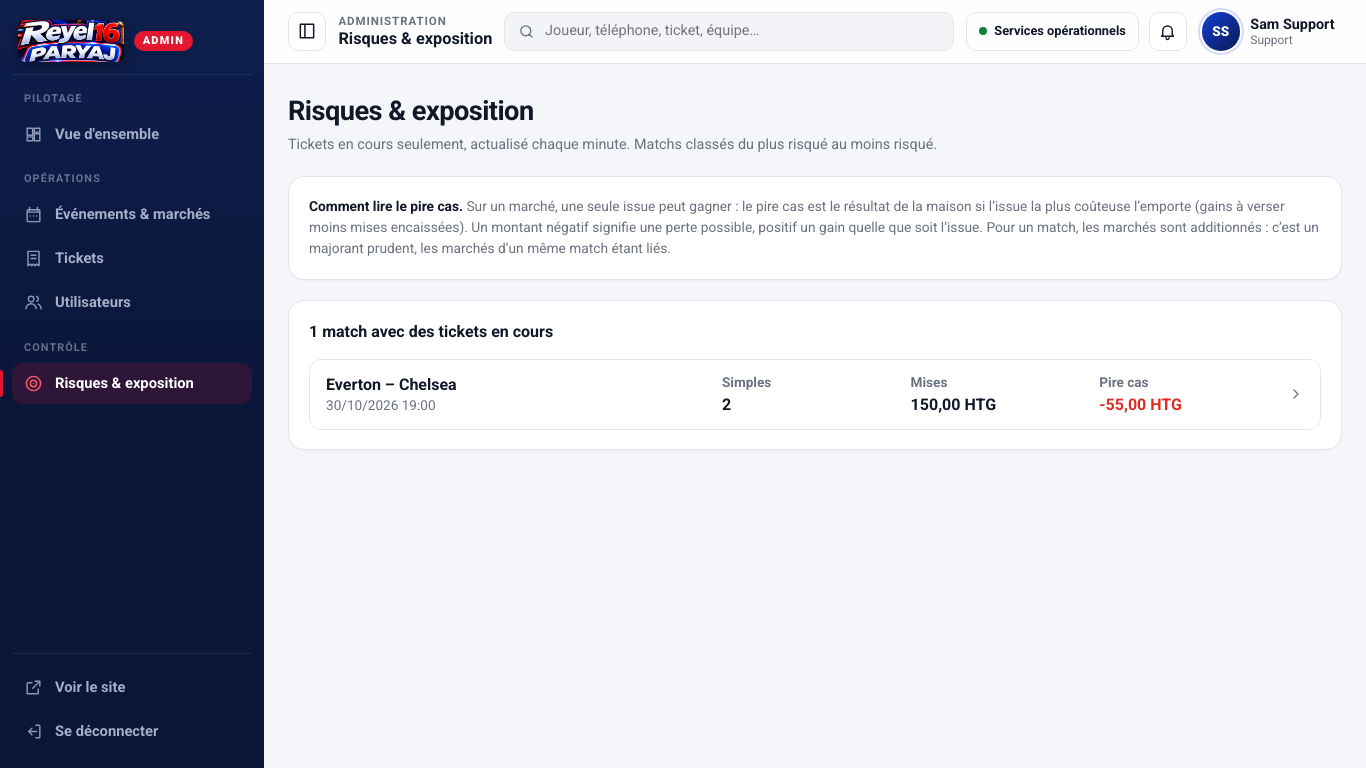
supervision et risques › montre le pire cas d'un match et le détail par issue
Expected: the text "Pire cas -55,00 HTG" is shown, [1099,374,1182,414]
Click the button "Everton – Chelsea" at (391, 385), box [310,360,1320,429]
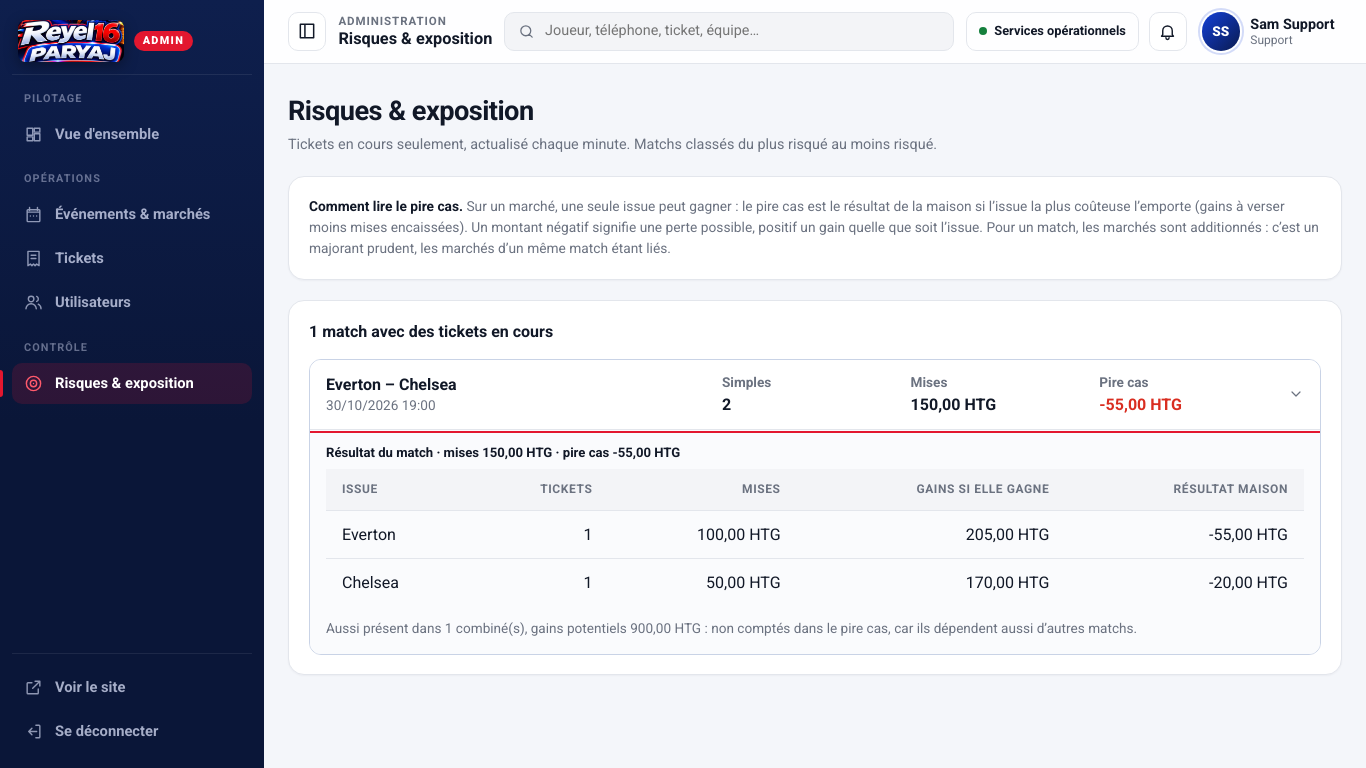
Now the table "Résultat du match" is shown, box [326,434,1304,606]
Now the text "non comptés dans le pire cas" is shown, box [701,620,1137,636]
